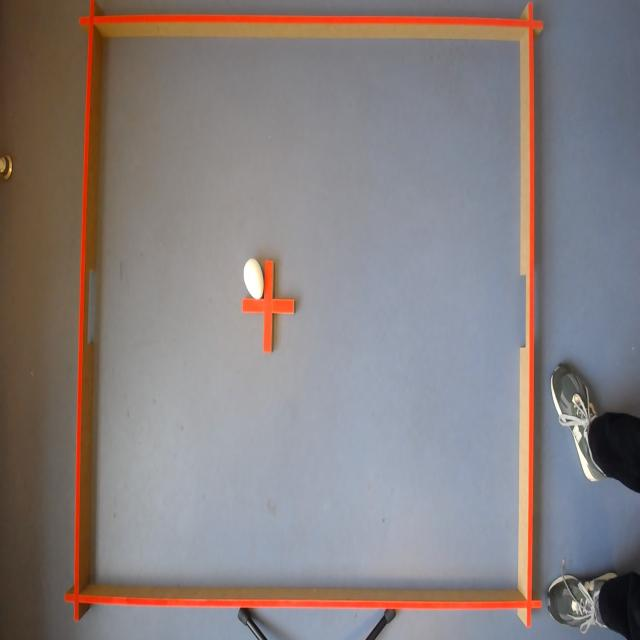cross: (242, 259, 295, 355)
egg: (243, 256, 265, 300)
